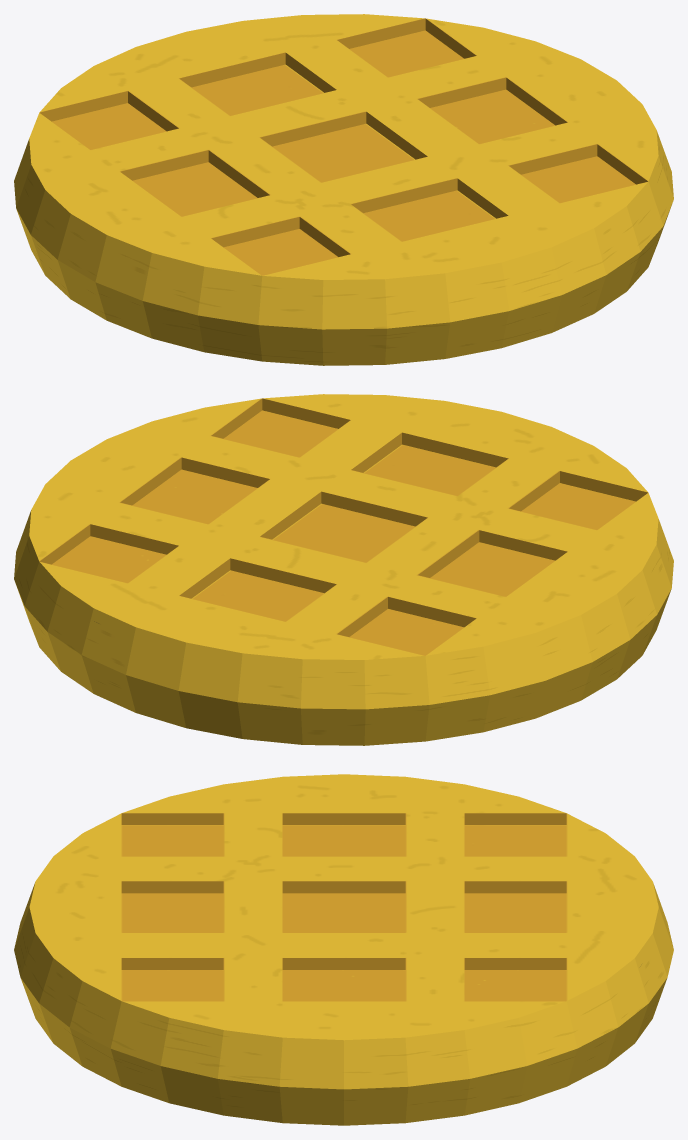
The model's file is waffle projectile.fbx.
The picture shows the model from 3 angles, top to bottom: view 1: azimuth 30°, elevation 25°; view 2: azimuth 150°, elevation 25°; view 3: azimuth 270°, elevation 25°; orthographic projection.
Visible parts, largest first — view 1: Cylinder; view 2: Cylinder; view 3: Cylinder.
Boxes of the visible parts, x1,y1,x2,y2 form: Cylinder: [14, 14, 673, 365]; Cylinder: [14, 394, 673, 745]; Cylinder: [14, 774, 673, 1125].
Bounding box in the file's own units: 200 × 28.61 × 200.
